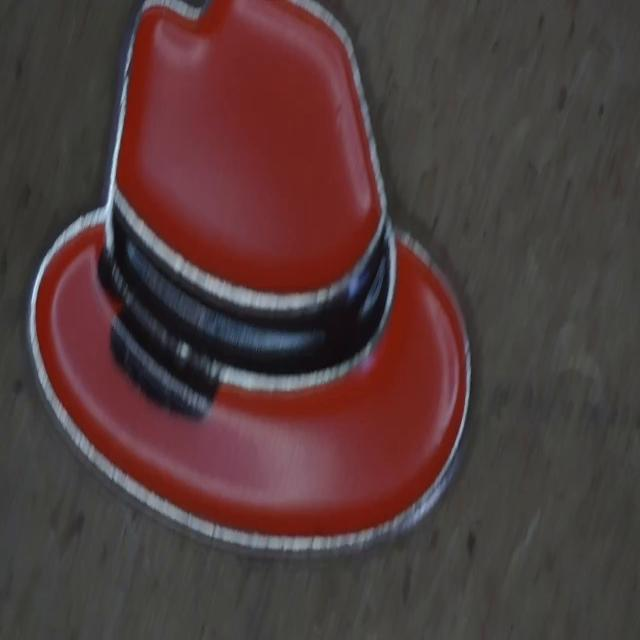Hatband: (115, 191, 394, 374)
Paint_Leak: (99, 252, 220, 417)
RedHatPin: (29, 2, 469, 550)
